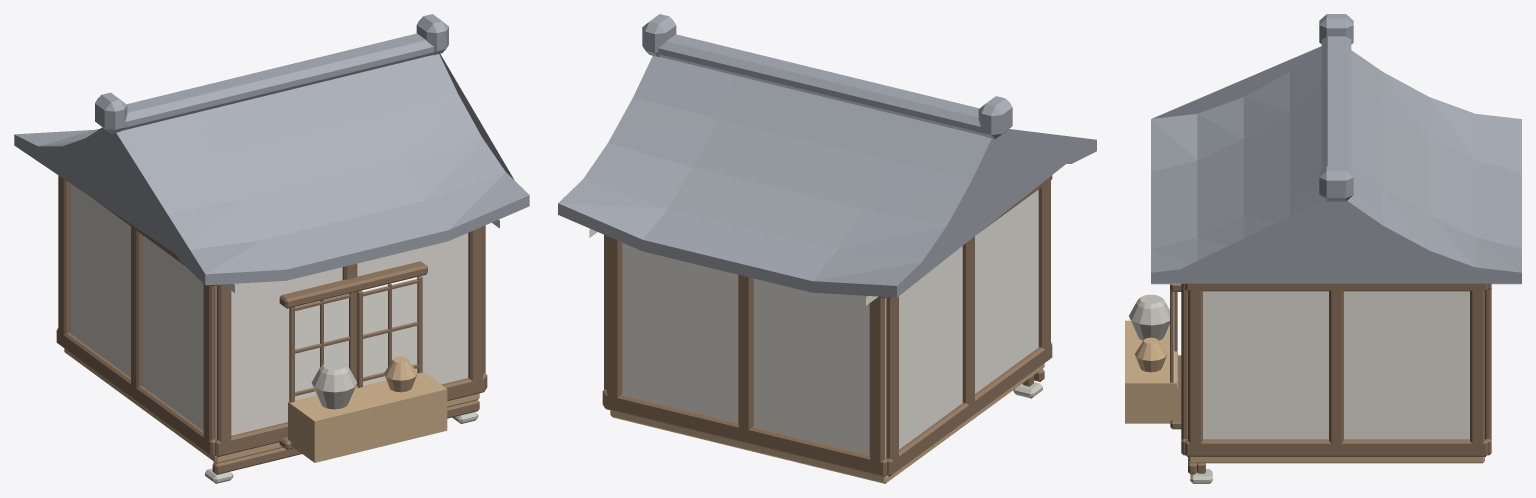
File: pottery-shop.glb
3 renders of one model, left to right at view 1: azimuth 30°, elevation 25°; view 2: azimuth 150°, elevation 25°; view 3: azimuth 270°, elevation 25°, orthographic. The views are drawn at different scales.
Visible parts, largest first — view 1: pottery-shop; view 2: pottery-shop; view 3: pottery-shop.
Part boxes in pixels (x1,y1,x2,y2): pottery-shop: (14,14,529,483); pottery-shop: (558,14,1096,483); pottery-shop: (1125,14,1521,483).
Bounding box in the file's own units: 5.2 × 4.91 × 5.35.
